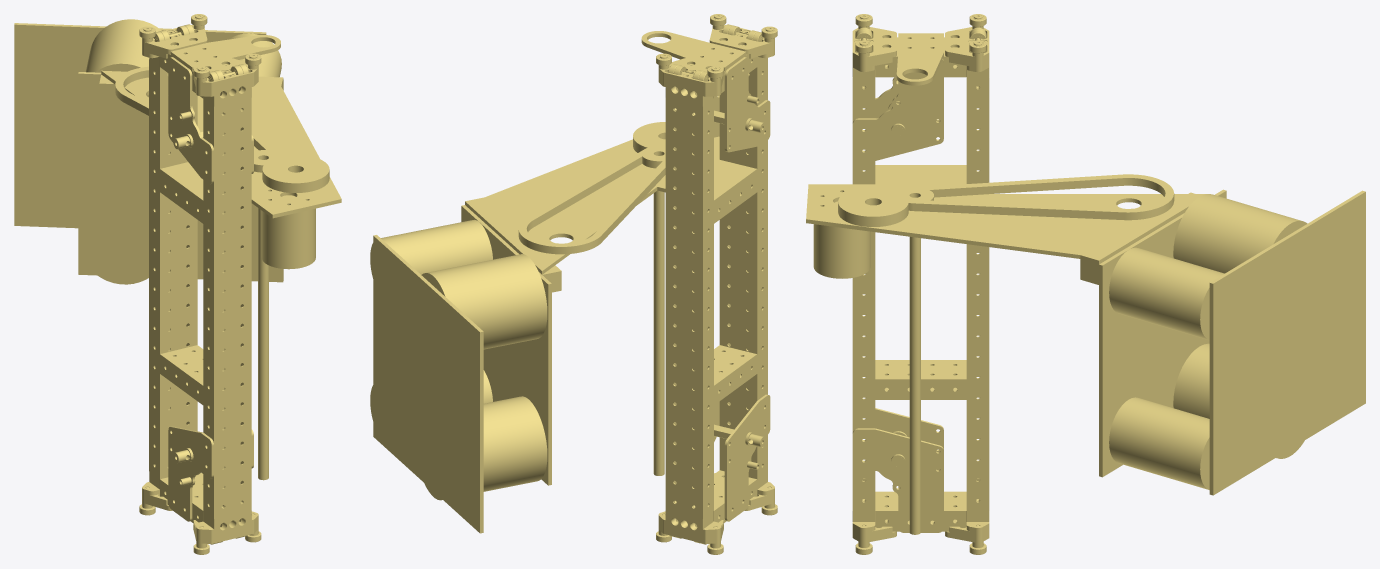
3 views of the same model, side by side, from view 1: azimuth 30°, elevation 25°; view 2: azimuth 150°, elevation 25°; view 3: azimuth 270°, elevation 25° (orthographic). The views are drawn at different scales.
Visible parts, largest first — view 1: NAUO2, NAUO10, NAUO9, NAUO24, NAUO18, NAUO5, NAUO14, NAUO16, NAUO31, NAUO30, NAUO17, NAUO12; view 2: NAUO2, NAUO9, NAUO10, NAUO18, NAUO24, NAUO16, NAUO17, NAUO5, NAUO31, NAUO30, NAUO12, NAUO14; view 3: NAUO2, NAUO9, NAUO10, NAUO26, NAUO19, NAUO31, NAUO5, NAUO16, NAUO12, NAUO18, NAUO14, NAUO17 (+1 smaller).
Boxes of the visible parts, x1,y1,x2,y2 form: NAUO2: (14,19,341,480); NAUO10: (203,97,251,518); NAUO9: (149,59,197,479); NAUO24: (168,57,213,184); NAUO18: (168,426,213,521); NAUO5: (193,53,261,106); NAUO14: (193,510,261,554); NAUO16: (139,14,207,66); NAUO31: (160,345,203,404); NAUO30: (160,173,203,223); NAUO17: (139,472,202,515); NAUO12: (160,473,203,523); NAUO2: (370,31,757,533); NAUO9: (665,97,713,518); NAUO10: (719,59,767,478); NAUO18: (724,394,770,521); NAUO24: (724,57,770,152); NAUO16: (656,53,723,106); NAUO17: (656,510,723,554); NAUO5: (709,14,777,66); NAUO31: (714,345,757,404); NAUO30: (714,173,757,223); NAUO12: (713,470,757,522); NAUO14: (714,472,777,515); NAUO2: (806,33,1365,534); NAUO9: (966,77,989,510); NAUO10: (852,77,875,510); NAUO26: (852,59,943,160); NAUO19: (852,428,943,532); NAUO31: (875,360,966,399); NAUO5: (852,14,896,77); NAUO16: (945,14,989,77); NAUO12: (875,491,966,531); NAUO18: (875,408,943,488); NAUO14: (852,511,896,554); NAUO17: (945,511,989,554).
Bounding box in the file's own units: 0.3376 × 0.6271 × 0.6237.
